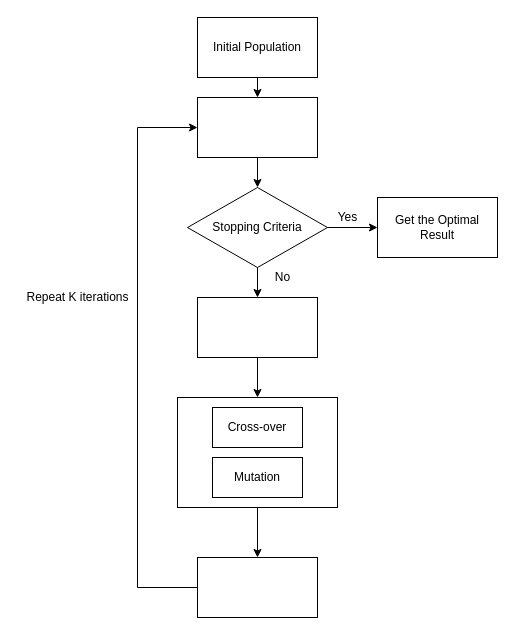
This 515x635 diagram has some shape labels left out. Each missing label, with the centre of its shape:
"Evaluate Population" belongs at (x=257, y=127).
"New Population" belongs at (x=257, y=587).
"Selection (Tournament Selection)" belongs at (x=257, y=327).
